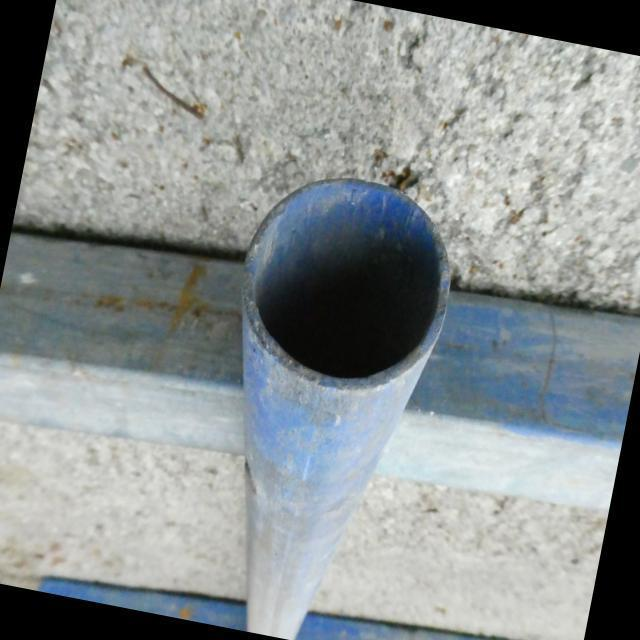pipe: (244, 176, 454, 388)
